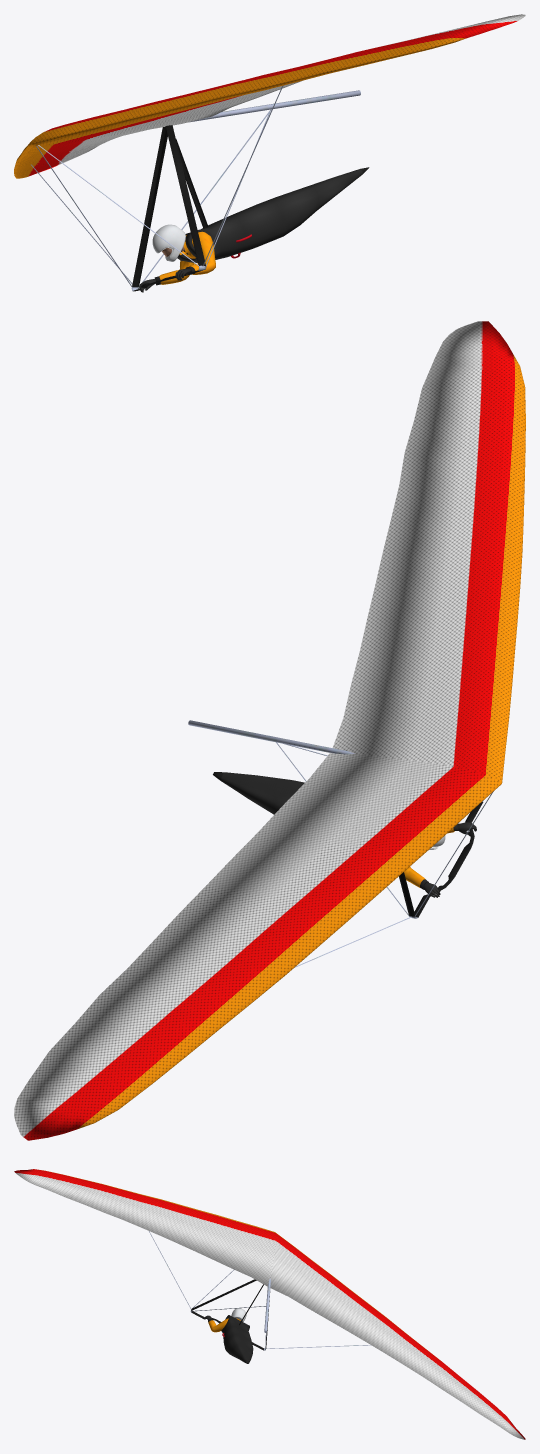
The model's file is hang-glider-red-thermal-cbj_LOD00.gltf.
3 renders of one model, top to bottom at view 1: azimuth 30°, elevation 25°; view 2: azimuth 150°, elevation 25°; view 3: azimuth 270°, elevation 25°, orthographic. The views are drawn at different scales.
Visible parts, largest first — view 1: hang-glider00; view 2: hang-glider00; view 3: hang-glider00.
Boxes of the visible parts, left/top/right/bottom form: hang-glider00: left=14, top=14, right=525, bottom=292; hang-glider00: left=14, top=321, right=525, bottom=1140; hang-glider00: left=14, top=1169, right=525, bottom=1439.
Size of what is drawn, in the model's own units: 3.49 by 5.03 by 8.71.
